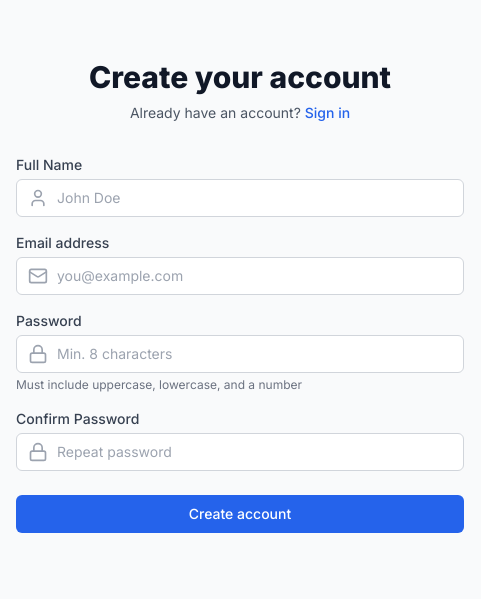
RegisterPage › Password validation › rejects password shorter than 8 characters
This screenshot has width=481, height=599.
Type "test@example.com" into the field labelled "Email address" at (240, 276), box [16, 257, 464, 295]
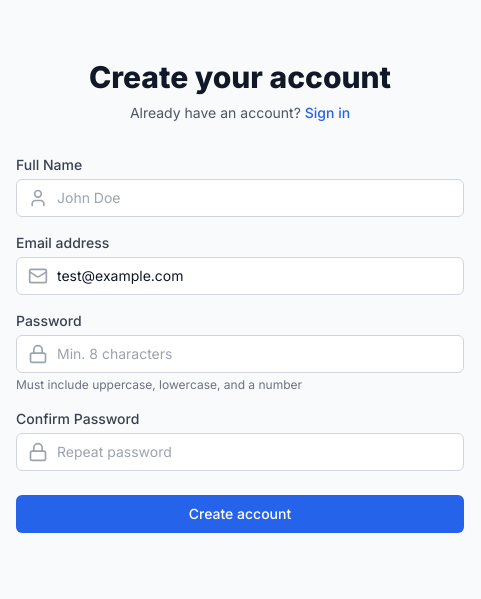
Type "Short1" into the password field labelled "Password" at (240, 354), box [16, 335, 464, 373]
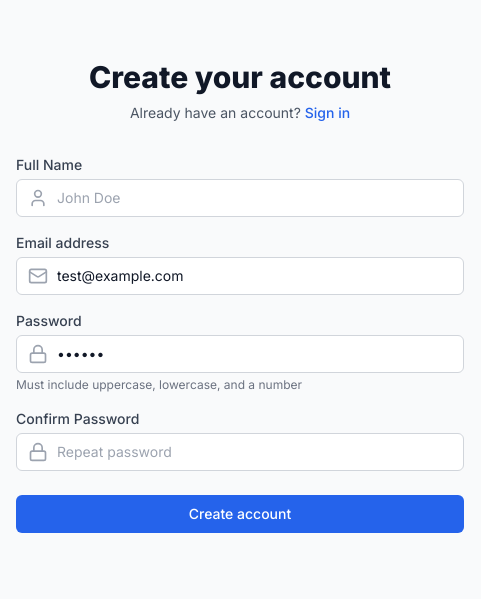
Type "Short1" into the password field labelled "Confirm Password" at (240, 452), box [16, 433, 464, 471]
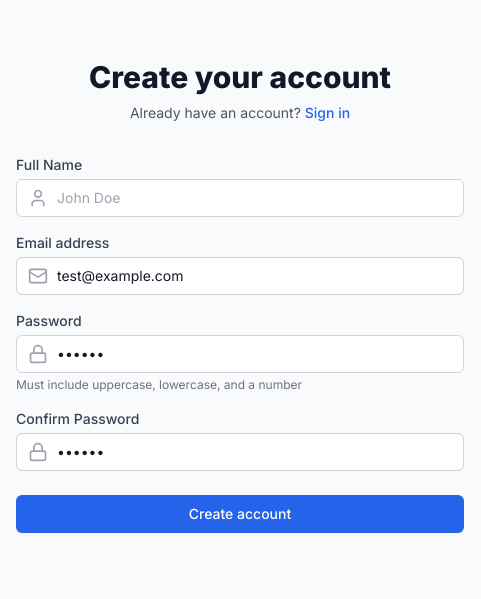
Submit the form from the button "Create account", box [16, 495, 464, 533]
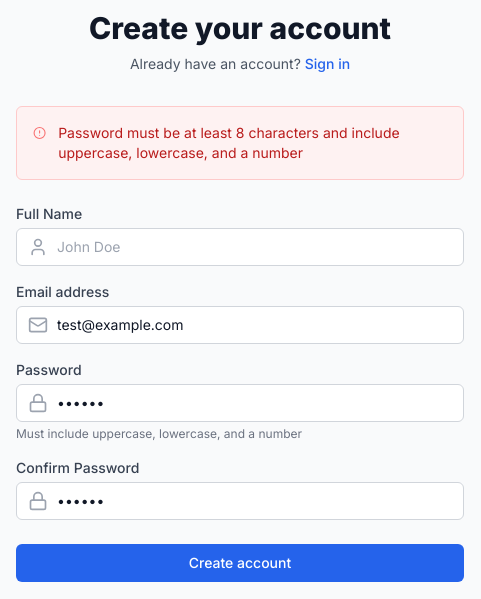
Now the text "8 characters" is shown, box [58, 124, 400, 161]
